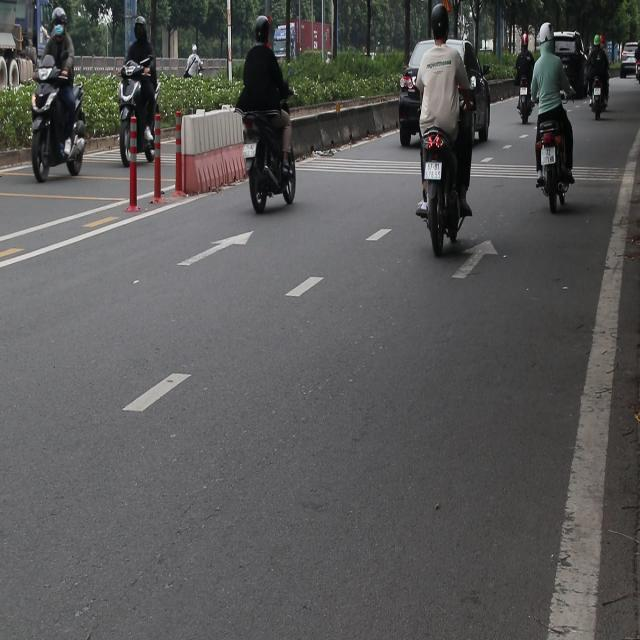car: (391, 23, 501, 140), (548, 22, 582, 102), (620, 43, 638, 79)
motorbike: (409, 134, 478, 256), (31, 75, 87, 182), (240, 114, 296, 221), (116, 66, 160, 168), (534, 116, 570, 230), (511, 64, 539, 124), (586, 76, 608, 120)
truck: (0, 0, 54, 91), (274, 14, 337, 81)
